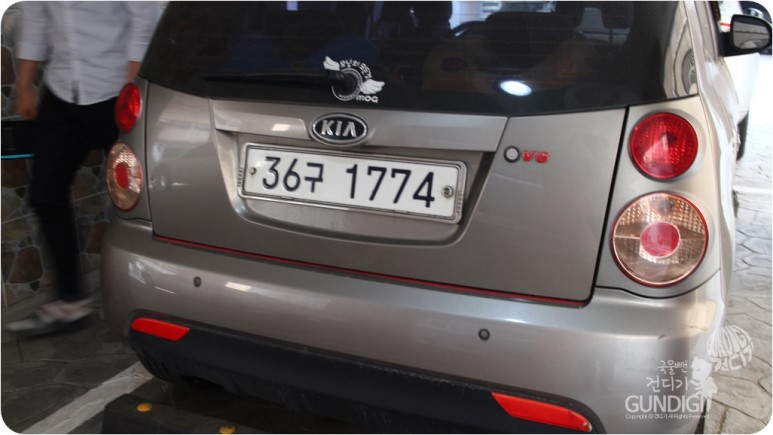plate: (235, 148, 455, 216)
